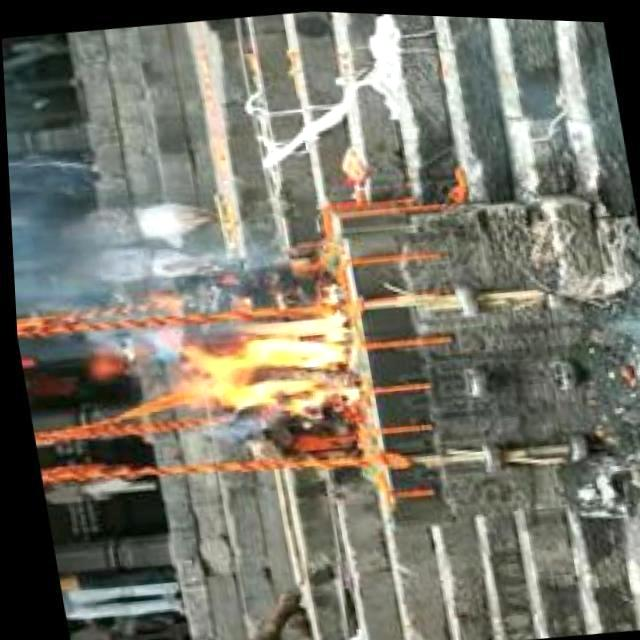fire: (172, 304, 360, 424)
